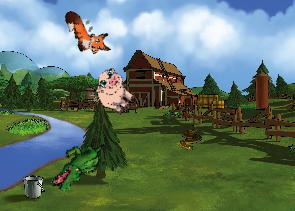crocodile: (49, 131, 106, 200)
fox: (61, 1, 114, 62)
pig: (86, 64, 142, 119)
